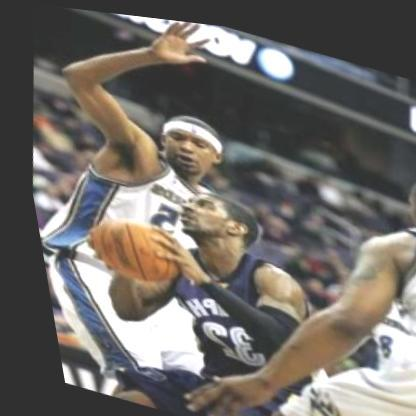basketball: (70, 202, 184, 294)
